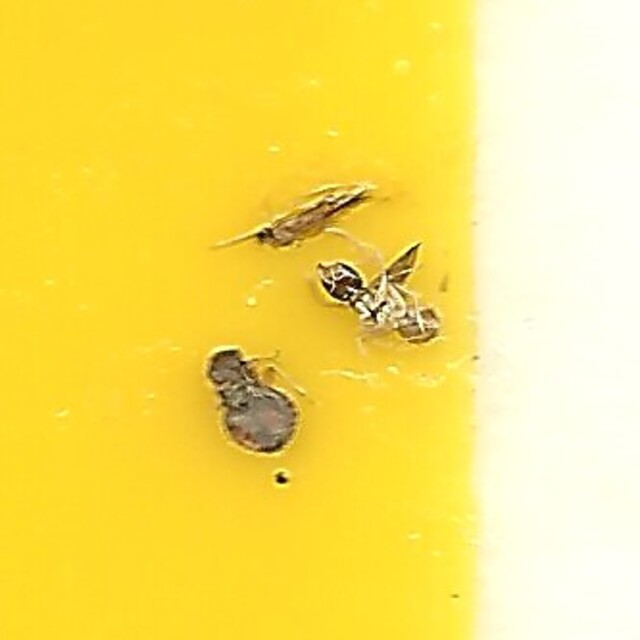Araneae: (192, 337, 309, 465)
Hymenoptera: (309, 258, 448, 349)
Trichoptera: (248, 175, 381, 256)
